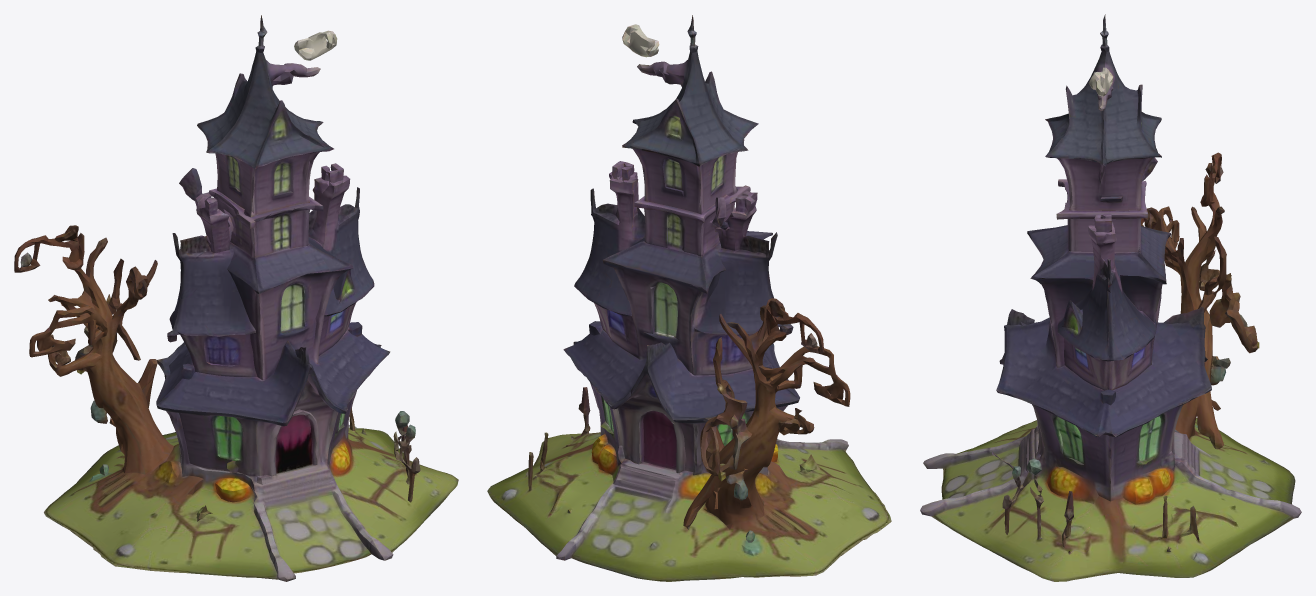
Rendered from hauntedcartoonmansion.glb.
3 renders of one model, left to right at view 1: azimuth 30°, elevation 25°; view 2: azimuth 150°, elevation 25°; view 3: azimuth 270°, elevation 25°, orthographic.
Parts seen in each view (by area): view 1: mesh; view 2: mesh; view 3: mesh.
Part boxes in pixels (x1,y1,x2,y2): mesh: [14, 15, 458, 581]; mesh: [487, 15, 891, 581]; mesh: [920, 14, 1301, 581].
Bounding box in the file's own units: 0.7819 × 1 × 0.7103.
Materials: 1 (1 with a texture image).
